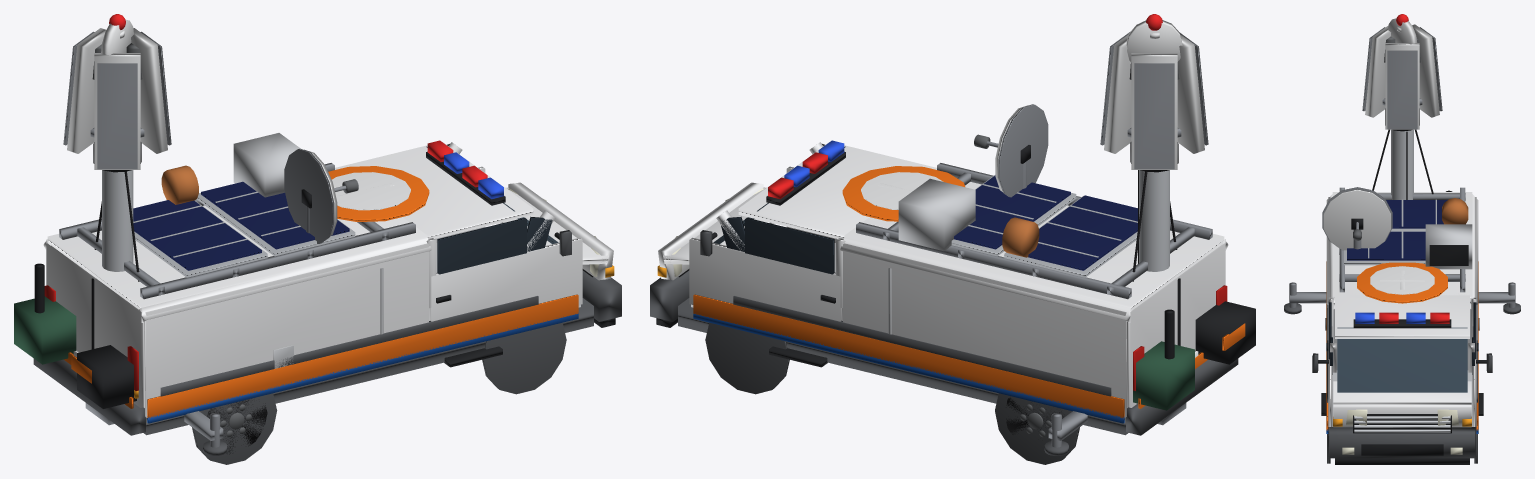
The picture shows the model from 3 angles, left to right: view 1: azimuth 30°, elevation 25°; view 2: azimuth 150°, elevation 25°; view 3: azimuth 270°, elevation 25°; orthographic projection. The views are drawn at different scales.
Visible parts, largest first — view 1: c3, c1, c11, c4, c17, c25, c15, c0, c7, c2, c18, c16 (+7 smaller); view 2: c3, c1, c11, c4, c17, c25, c15, c0, c2, c7, c18, c23 (+6 smaller); view 3: c3, c4, c8, c0, c1, c25, c17, c15, c11, c2, c23, c9 (+8 smaller).
Part boxes in pixels (left/top/right/bottom): c3: left=43, top=142, right=613, bottom=417; c1: left=33, top=144, right=621, bottom=464; c11: left=64, top=166, right=578, bottom=418; c4: left=67, top=20, right=410, bottom=357; c17: left=133, top=181, right=349, bottom=270; c25: left=63, top=31, right=334, bottom=243; c15: left=59, top=128, right=415, bottom=447; c0: left=34, top=142, right=615, bottom=408; c7: left=437, top=216, right=552, bottom=274; c2: left=233, top=133, right=580, bottom=368; c18: left=14, top=296, right=76, bottom=364; c16: left=133, top=191, right=355, bottom=277; c3: left=658, top=142, right=1228, bottom=417; c1: left=650, top=144, right=1238, bottom=464; c11: left=693, top=166, right=1245, bottom=418; c4: left=861, top=20, right=1204, bottom=357; c17: left=954, top=175, right=1137, bottom=270; c25: left=998, top=32, right=1208, bottom=197; c15: left=856, top=128, right=1212, bottom=447; c0: left=656, top=142, right=1255, bottom=367; c2: left=691, top=178, right=975, bottom=334; c7: left=720, top=216, right=834, bottom=274; c18: left=1133, top=341, right=1194, bottom=410; c23: left=1139, top=170, right=1169, bottom=271; c3: left=1326, top=192, right=1478, bottom=427; c4: left=1323, top=18, right=1439, bottom=294; c8: left=1337, top=327, right=1467, bottom=392; c0: left=1318, top=108, right=1486, bottom=464; c1: left=1284, top=303, right=1520, bottom=463; c25: left=1322, top=27, right=1442, bottom=249; c17: left=1347, top=200, right=1447, bottom=260; c15: left=1289, top=98, right=1515, bottom=307; c11: left=1326, top=261, right=1478, bottom=430; c2: left=1327, top=224, right=1477, bottom=426; c23: left=1391, top=129, right=1413, bottom=199; c9: left=1354, top=416, right=1450, bottom=432.
Size of the model in its own units: 5.88 by 3.15 by 4.65.
